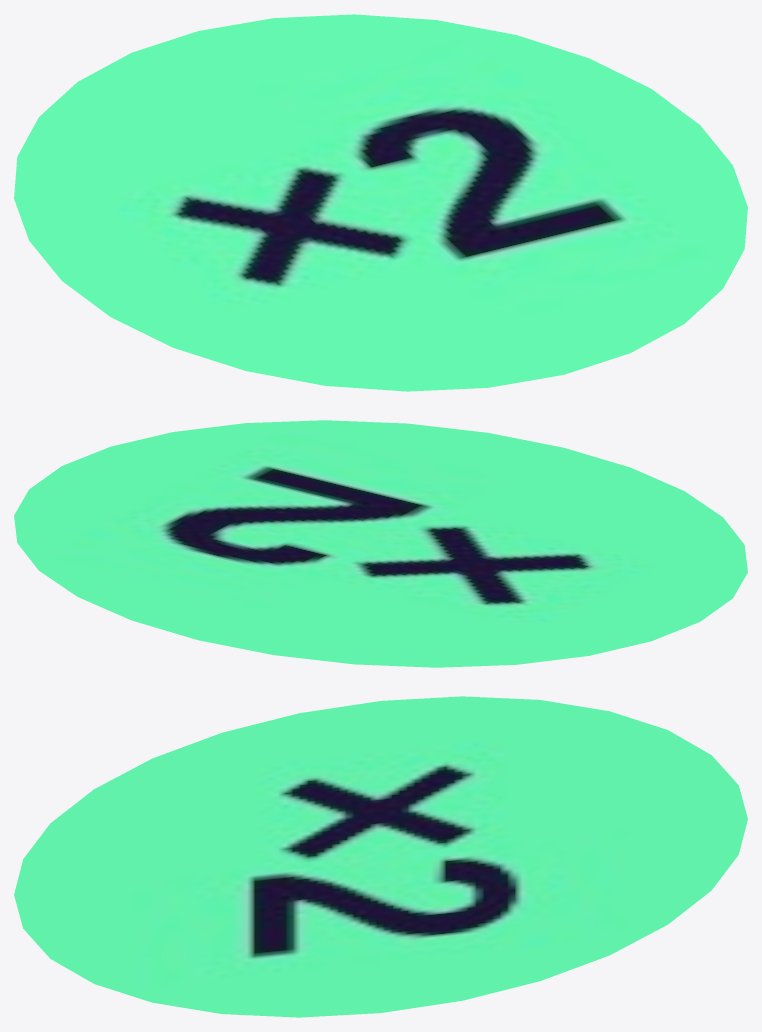
The model's file is pp_light_mult2.glb.
3 views of the same model, one above another, from view 1: azimuth 30°, elevation 25°; view 2: azimuth 150°, elevation 25°; view 3: azimuth 270°, elevation 25° (orthographic).
Parts seen in each view (by area): view 1: MultLight; view 2: MultLight; view 3: MultLight.
Part boxes in pixels (<box>): MultLight: <box>14,14,747,391</box>; MultLight: <box>14,420,747,667</box>; MultLight: <box>14,696,747,1017</box>.
Size of the model in its own units: 0.025 by 0.00283 by 0.0248.
Materials: 1 (1 with a texture image).
